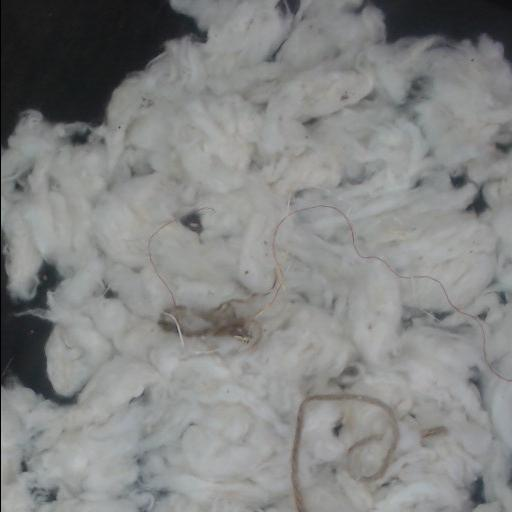conveyor belt: (1, 0, 194, 142), (1, 0, 193, 119), (1, 262, 73, 403), (371, 0, 512, 60), (1, 293, 52, 398)
cotton: (1, 0, 512, 511)
jute: (292, 393, 399, 511), (165, 303, 264, 348), (348, 433, 382, 453)
thread: (269, 200, 512, 383), (147, 219, 176, 306)
